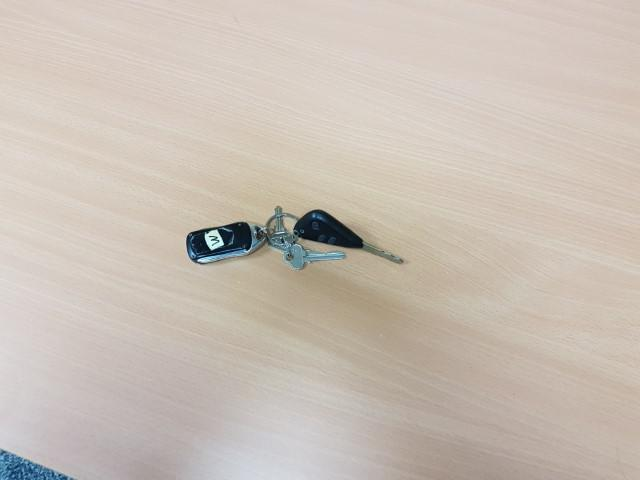key: (294, 209, 405, 264)
